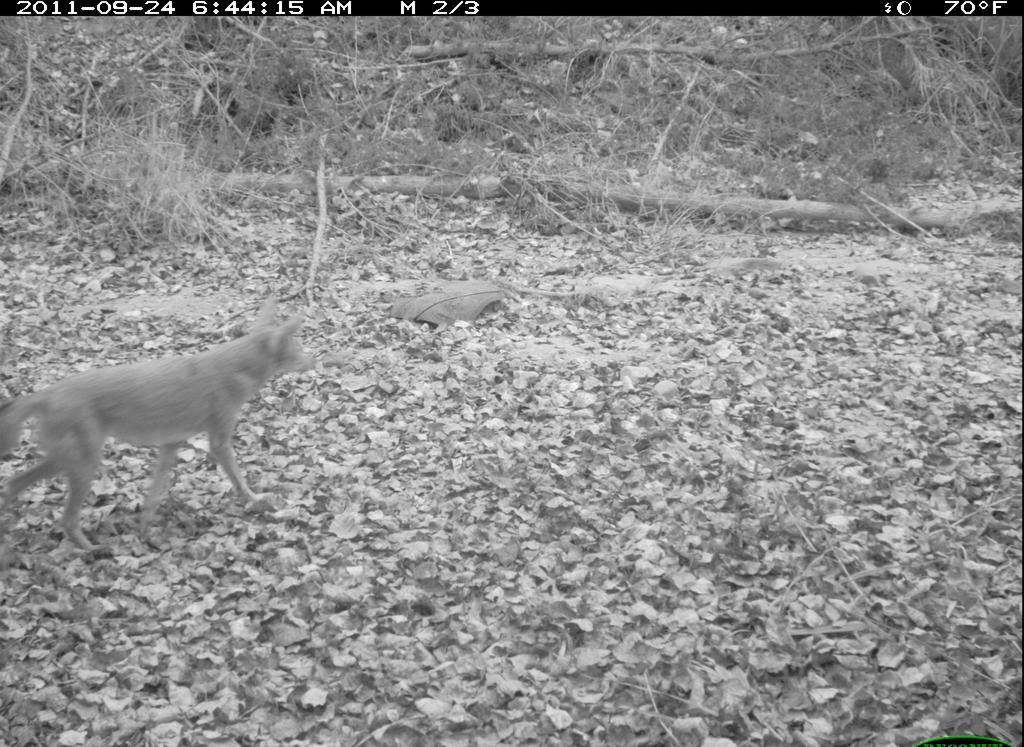coyote: (2, 289, 326, 566)
